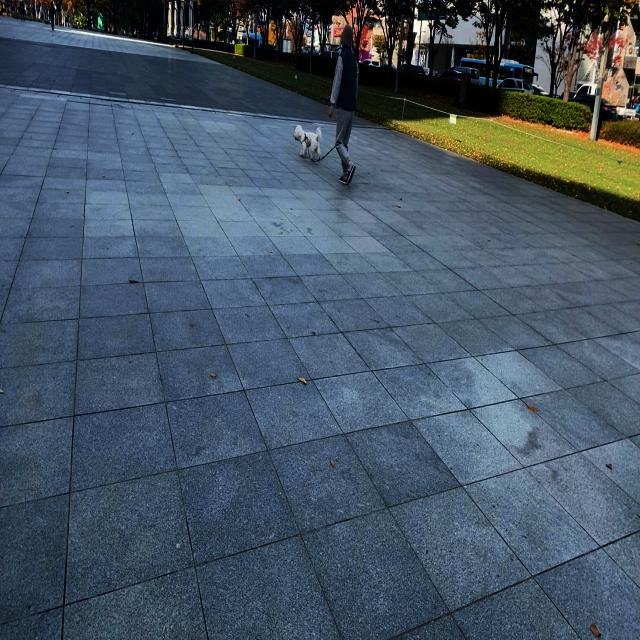Leashed_Dog: (293, 110, 348, 162)
